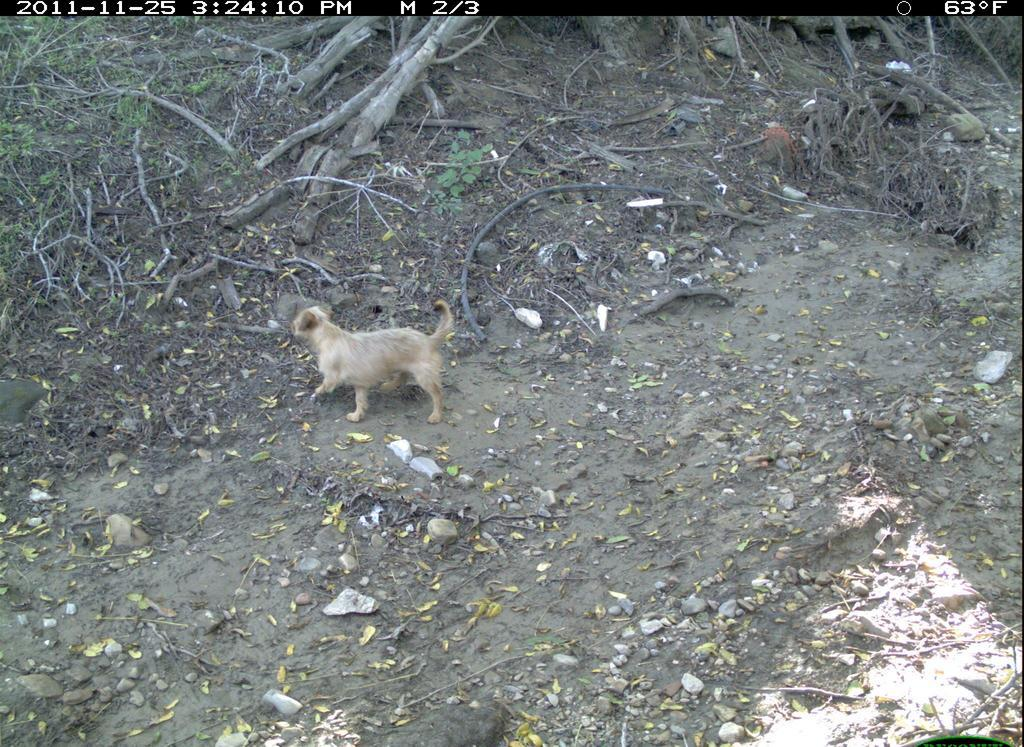dog: (289, 297, 483, 427)
